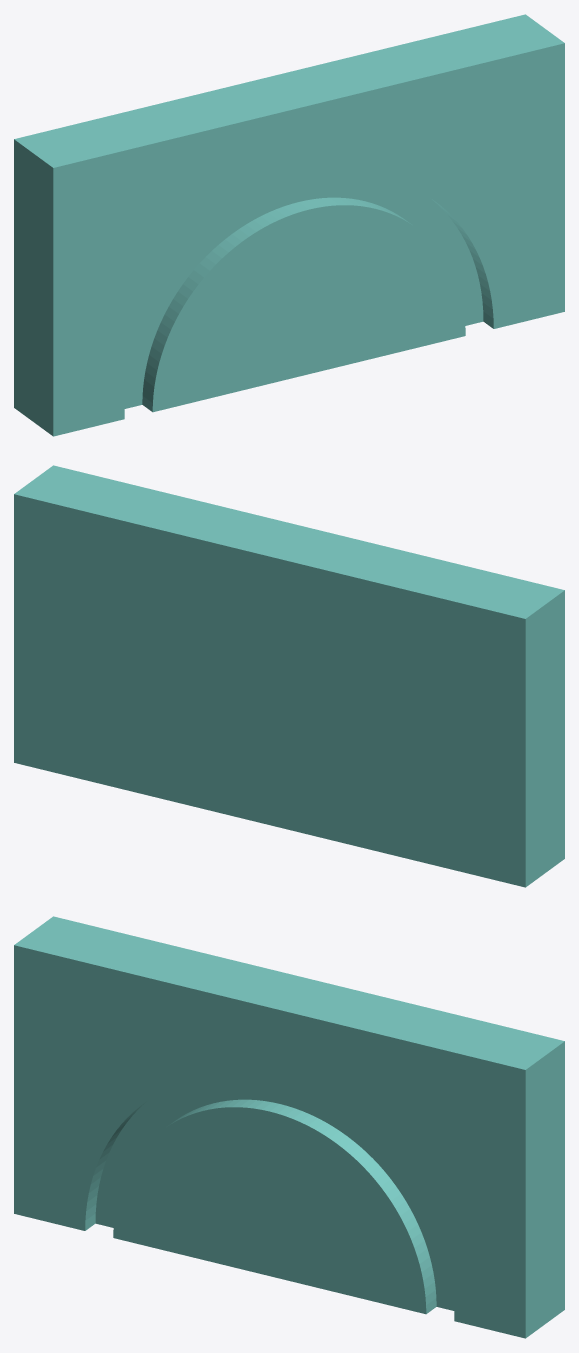
Rendered from oring_groove_demo.glb.
3 views of the same model, one above another, from view 1: azimuth 30°, elevation 25°; view 2: azimuth 150°, elevation 25°; view 3: azimuth 330°, elevation 25° (orthographic).
Visible parts, largest first — view 1: groove_cutaway; view 2: groove_cutaway; view 3: groove_cutaway.
Part boxes in pixels (x1,y1,x2,y2): groove_cutaway: [14, 14, 564, 436]; groove_cutaway: [14, 465, 564, 887]; groove_cutaway: [14, 916, 564, 1338].
Size of the model in its own units: 60 by 30.1 by 8.
